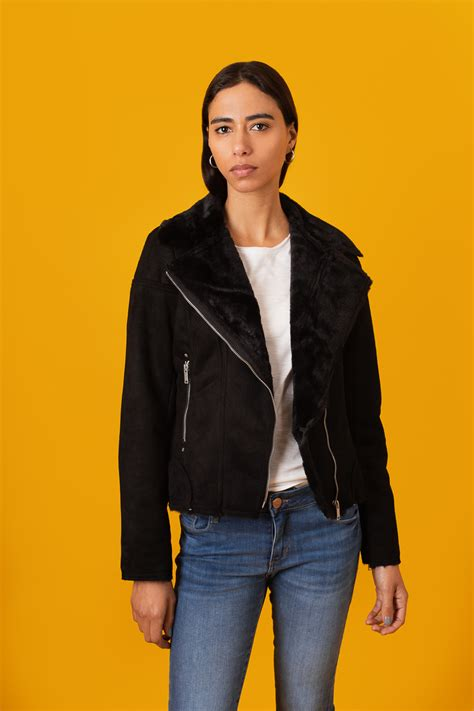gamuza: (118, 187, 402, 585)
